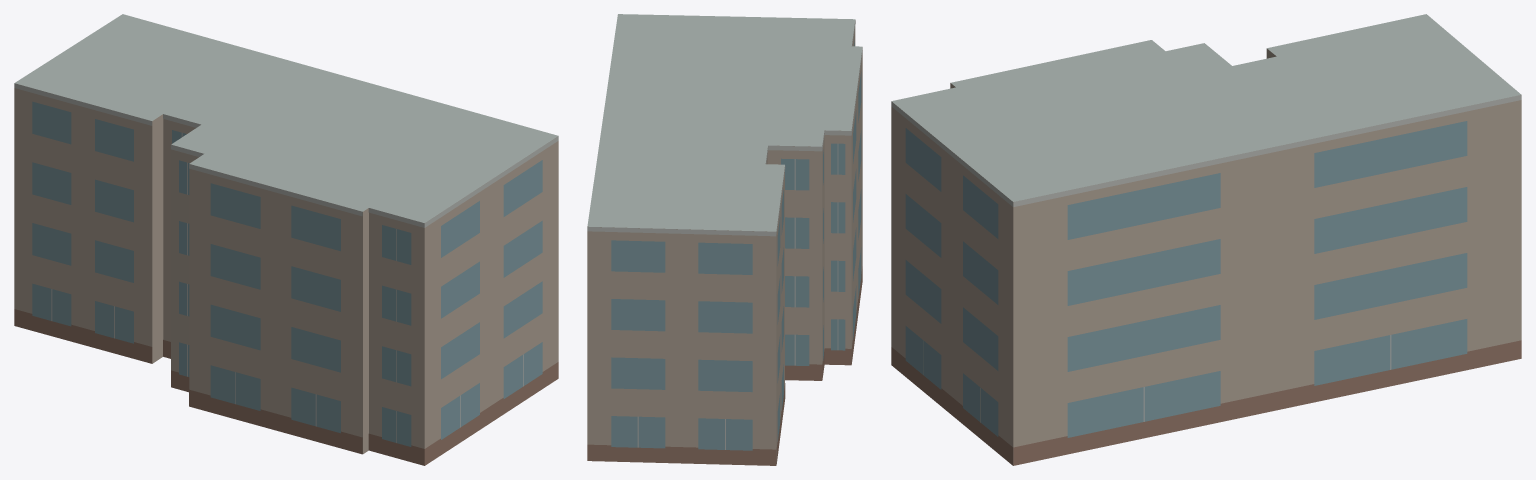
Rendered from survey-upis-32802082.glb.
3 views of the same model, side by side, from view 1: azimuth 30°, elevation 25°; view 2: azimuth 150°, elevation 25°; view 3: azimuth 270°, elevation 25° (orthographic). The views are drawn at different scales.
Visible parts, largest first — view 1: survey-upis-32802082.tmp; view 2: survey-upis-32802082.tmp; view 3: survey-upis-32802082.tmp.
Part boxes in pixels (<box>): survey-upis-32802082.tmp: <box>14,14,558,465</box>; survey-upis-32802082.tmp: <box>587,14,862,465</box>; survey-upis-32802082.tmp: <box>891,14,1521,465</box>.
Size of the model in its own units: 18.96 by 12.4 by 26.85.
